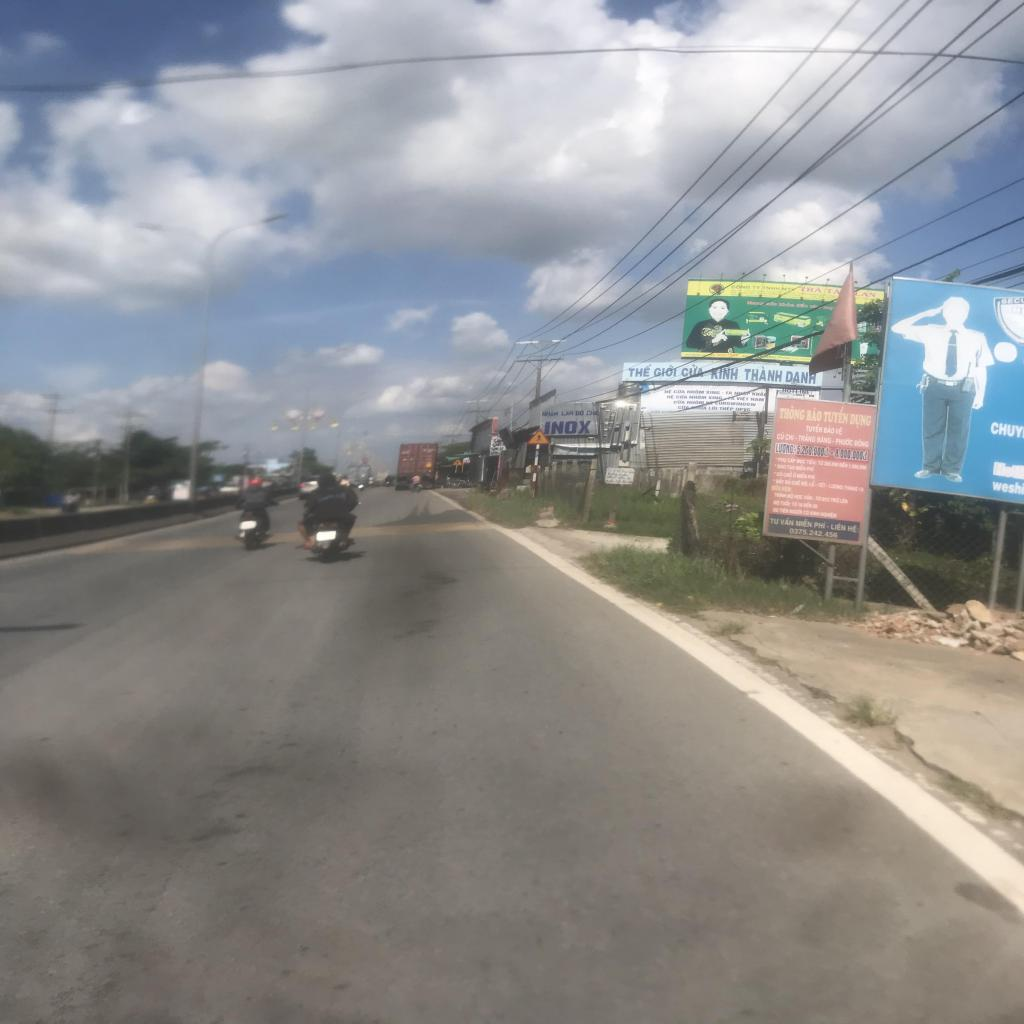chu_y_nguoi_di_bo_cat_ngang: (525, 428, 552, 445)
giao_nhau_voi_duong_khong_uu_tien: (452, 458, 462, 465)
